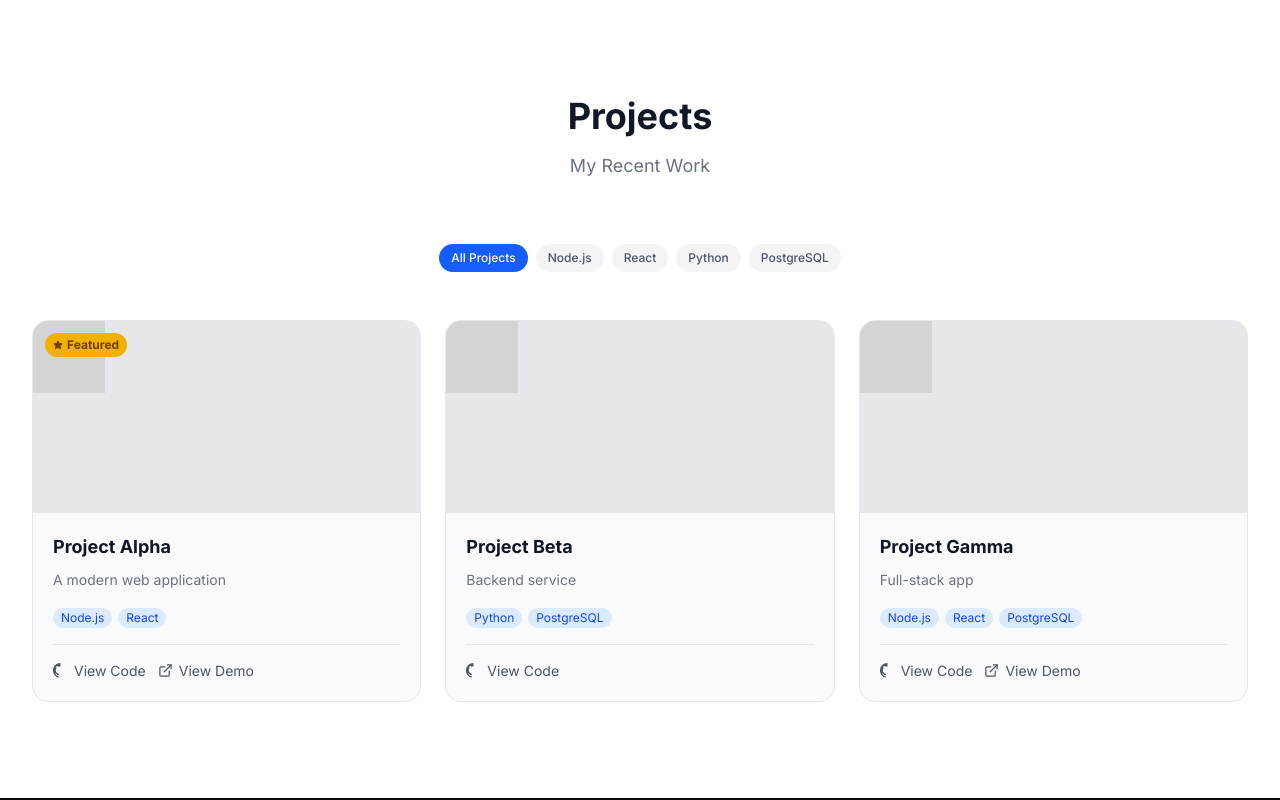
ProjectsSection › filters projects by skill when filter button is clicked
Click the button "Node.js".
click(570, 258)  # box [536,244,604,272]
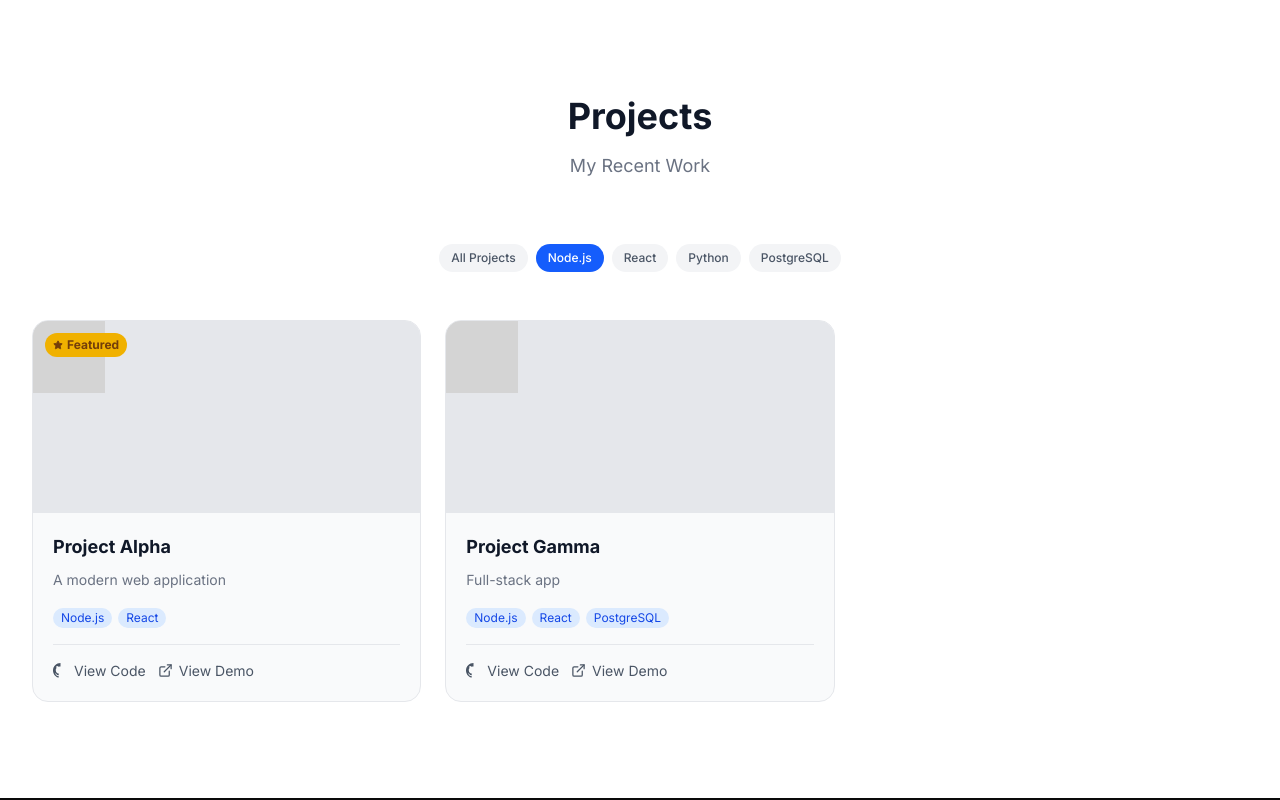
Check: the heading "Project Alpha" is shown, box [53,536,171,557]
Check: the heading "Project Beta" is gone
